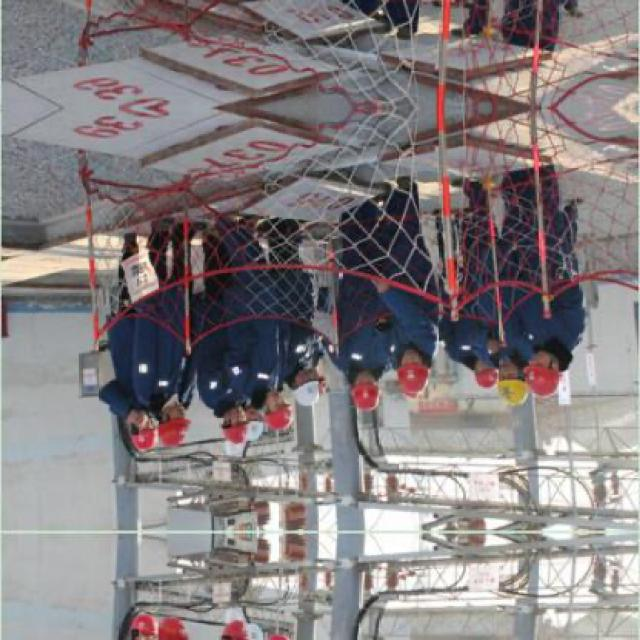con casco: (228, 401, 288, 456), (106, 397, 162, 452), (522, 339, 566, 406), (159, 393, 209, 447), (412, 346, 462, 394), (206, 402, 255, 449), (348, 358, 386, 418), (479, 360, 530, 394)
